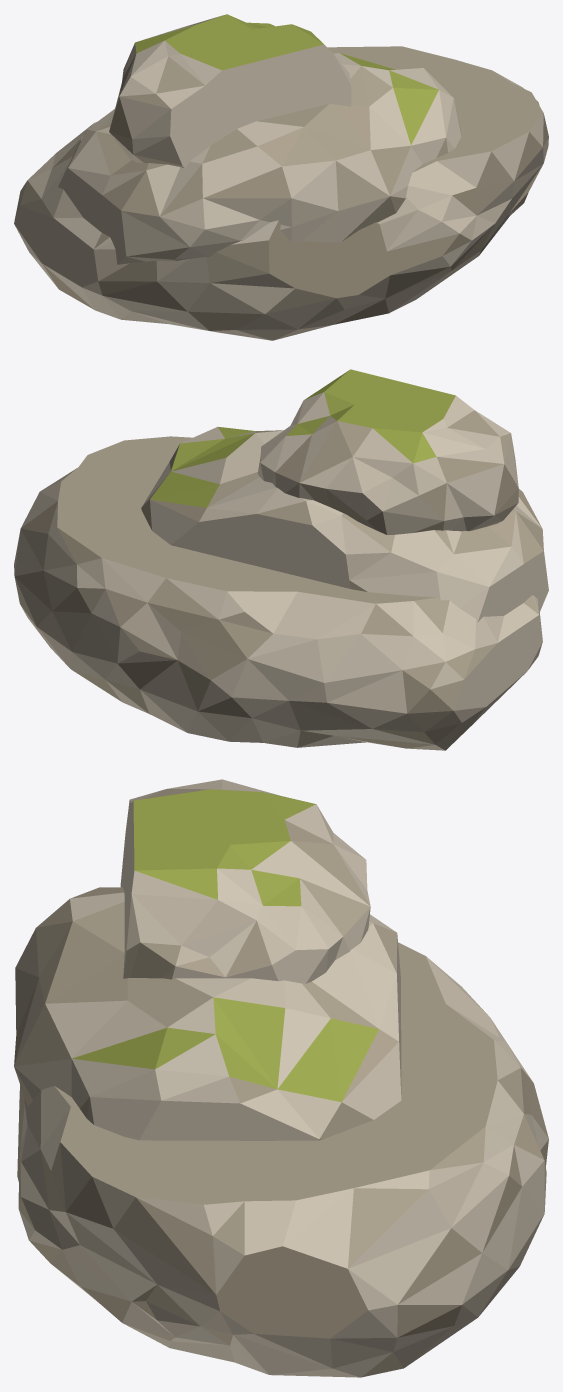
The model's file is rome_rock_a.glb.
3 views of the same model, one above another, from view 1: azimuth 30°, elevation 25°; view 2: azimuth 150°, elevation 25°; view 3: azimuth 270°, elevation 25° (orthographic). The views are drawn at different scales.
Parts seen in each view (by area): view 1: rome_rock_a; view 2: rome_rock_a; view 3: rome_rock_a.
Part boxes in pixels (x1,y1,x2,y2): rome_rock_a: (14, 14, 548, 340); rome_rock_a: (14, 369, 548, 750); rome_rock_a: (14, 779, 548, 1377).
Bounding box in the file's own units: 11.87 × 6.52 × 8.39.
